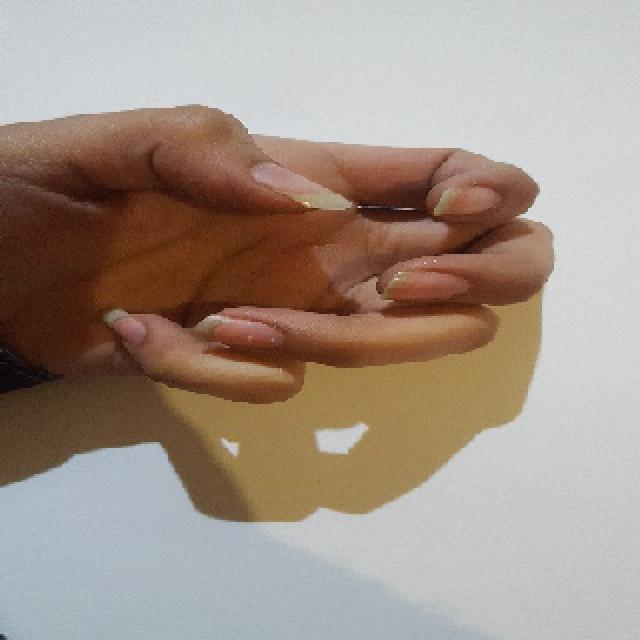Nail: (250, 161, 352, 209), (191, 314, 284, 349), (381, 270, 470, 301), (432, 186, 500, 218), (104, 309, 148, 344)
